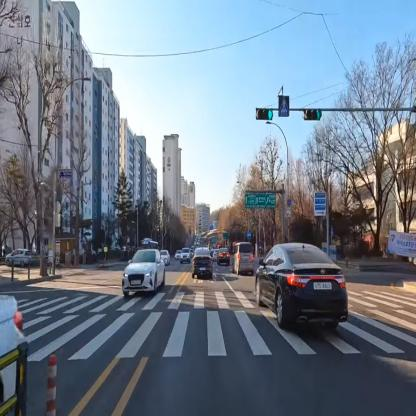Green: (302, 106, 322, 122), (256, 107, 273, 124)
